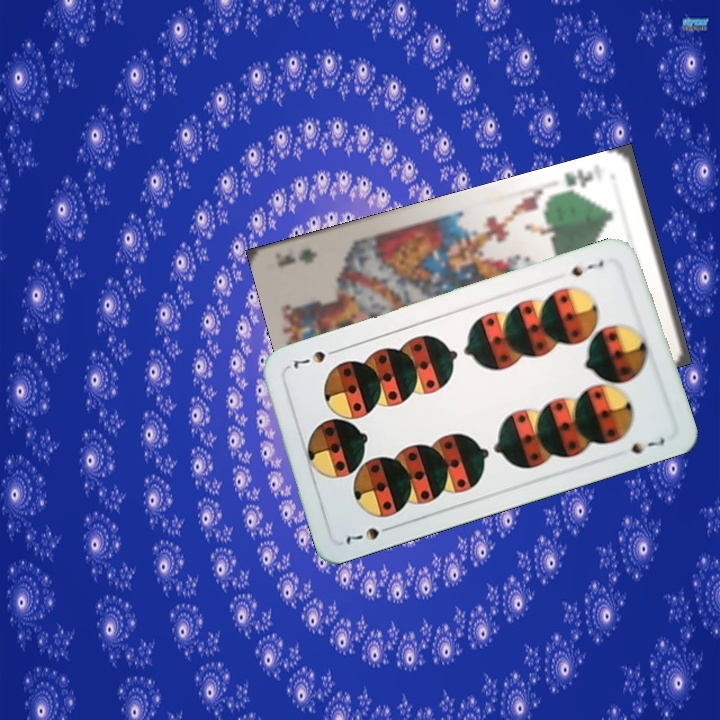GK: (556, 165, 596, 196)
S7: (341, 521, 397, 547), (565, 256, 607, 279)
